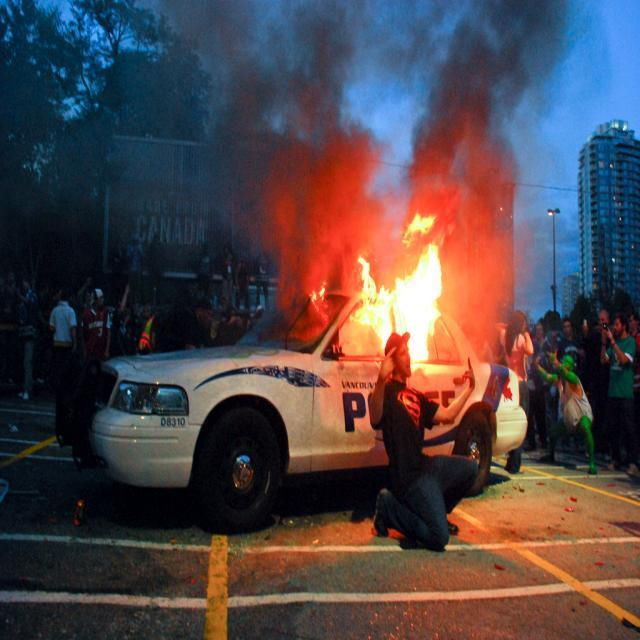Fire: (358, 214, 462, 376)
Smoke: (77, 0, 598, 269)
